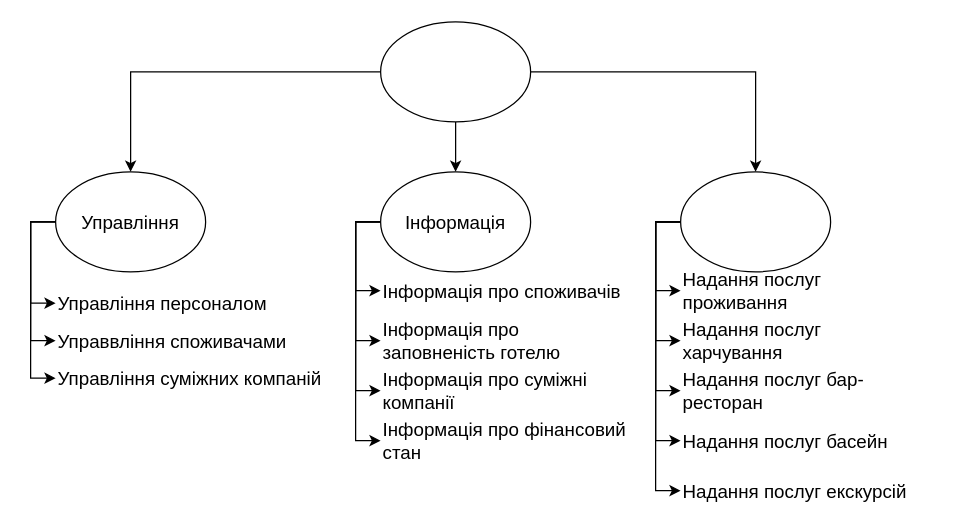
This 953x531 diagram has some shape labels left out. The shapes that lost their labels are listed below. From the top down, each one's centre as x and y in pixels, then its label:
At point (455, 71): "Готельний комплекс".
At point (755, 221): "Надання послуг".
